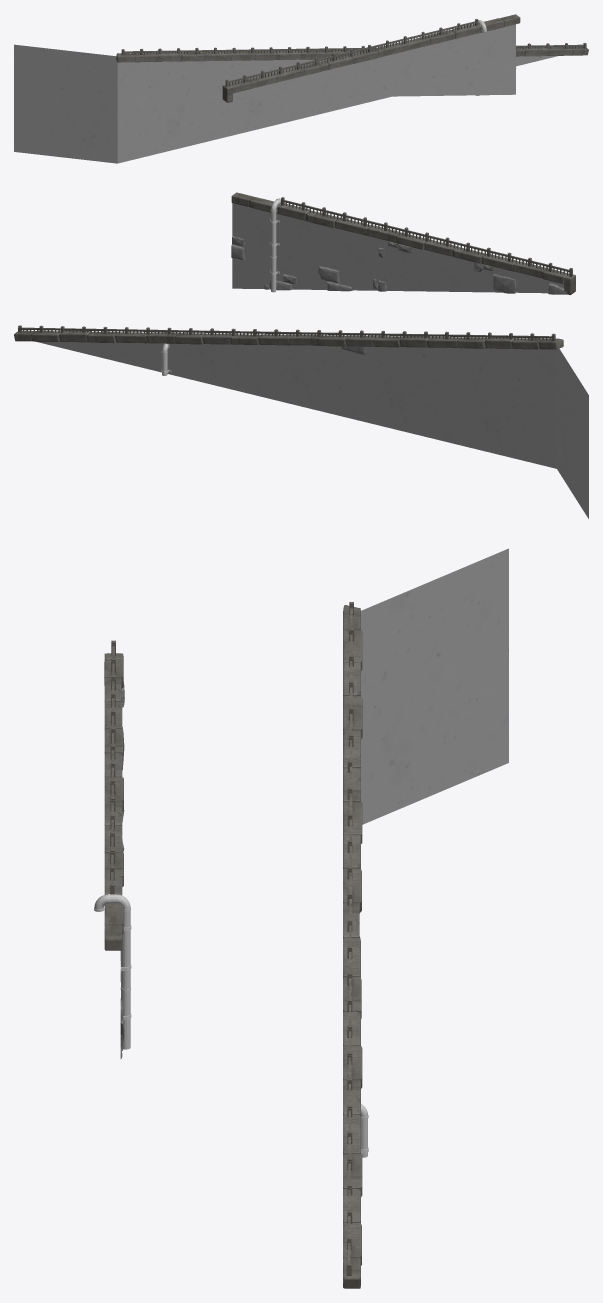
Rendered from SM_ENV_KNVLLG_AreaH_Wall_B.mo.fbx.
3 views of the same model, one above another, from view 1: azimuth 30°, elevation 25°; view 2: azimuth 150°, elevation 25°; view 3: azimuth 270°, elevation 25° (orthographic). The views are drawn at different scales.
Parts seen in each view (by area): view 1: SM_ENV_KNVLLG_AreaH_Wall_B.mo; view 2: SM_ENV_KNVLLG_AreaH_Wall_B.mo; view 3: SM_ENV_KNVLLG_AreaH_Wall_B.mo.
Boxes of the visible parts, x1=… form: SM_ENV_KNVLLG_AreaH_Wall_B.mo: x1=14, y1=14, x2=588, y2=163; SM_ENV_KNVLLG_AreaH_Wall_B.mo: x1=14, y1=192, x2=588, y2=518; SM_ENV_KNVLLG_AreaH_Wall_B.mo: x1=94, y1=548, x2=508, y2=1288.
Bounding box in the file's own units: 52.05 × 11.14 × 17.54.
